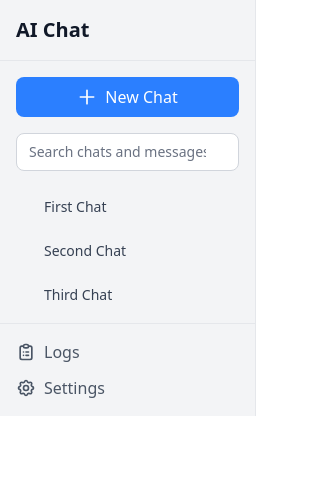
Test: ChatSidebar › selection mode behavior › shows bulk delete bar when items are selected
Click the link "First Chat".
click(75, 206)  # box [44,197,106,216]
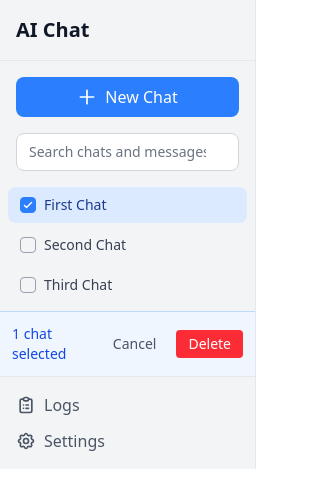
Expected: the text "1 chat selected" is shown, [12,324,66,363]
